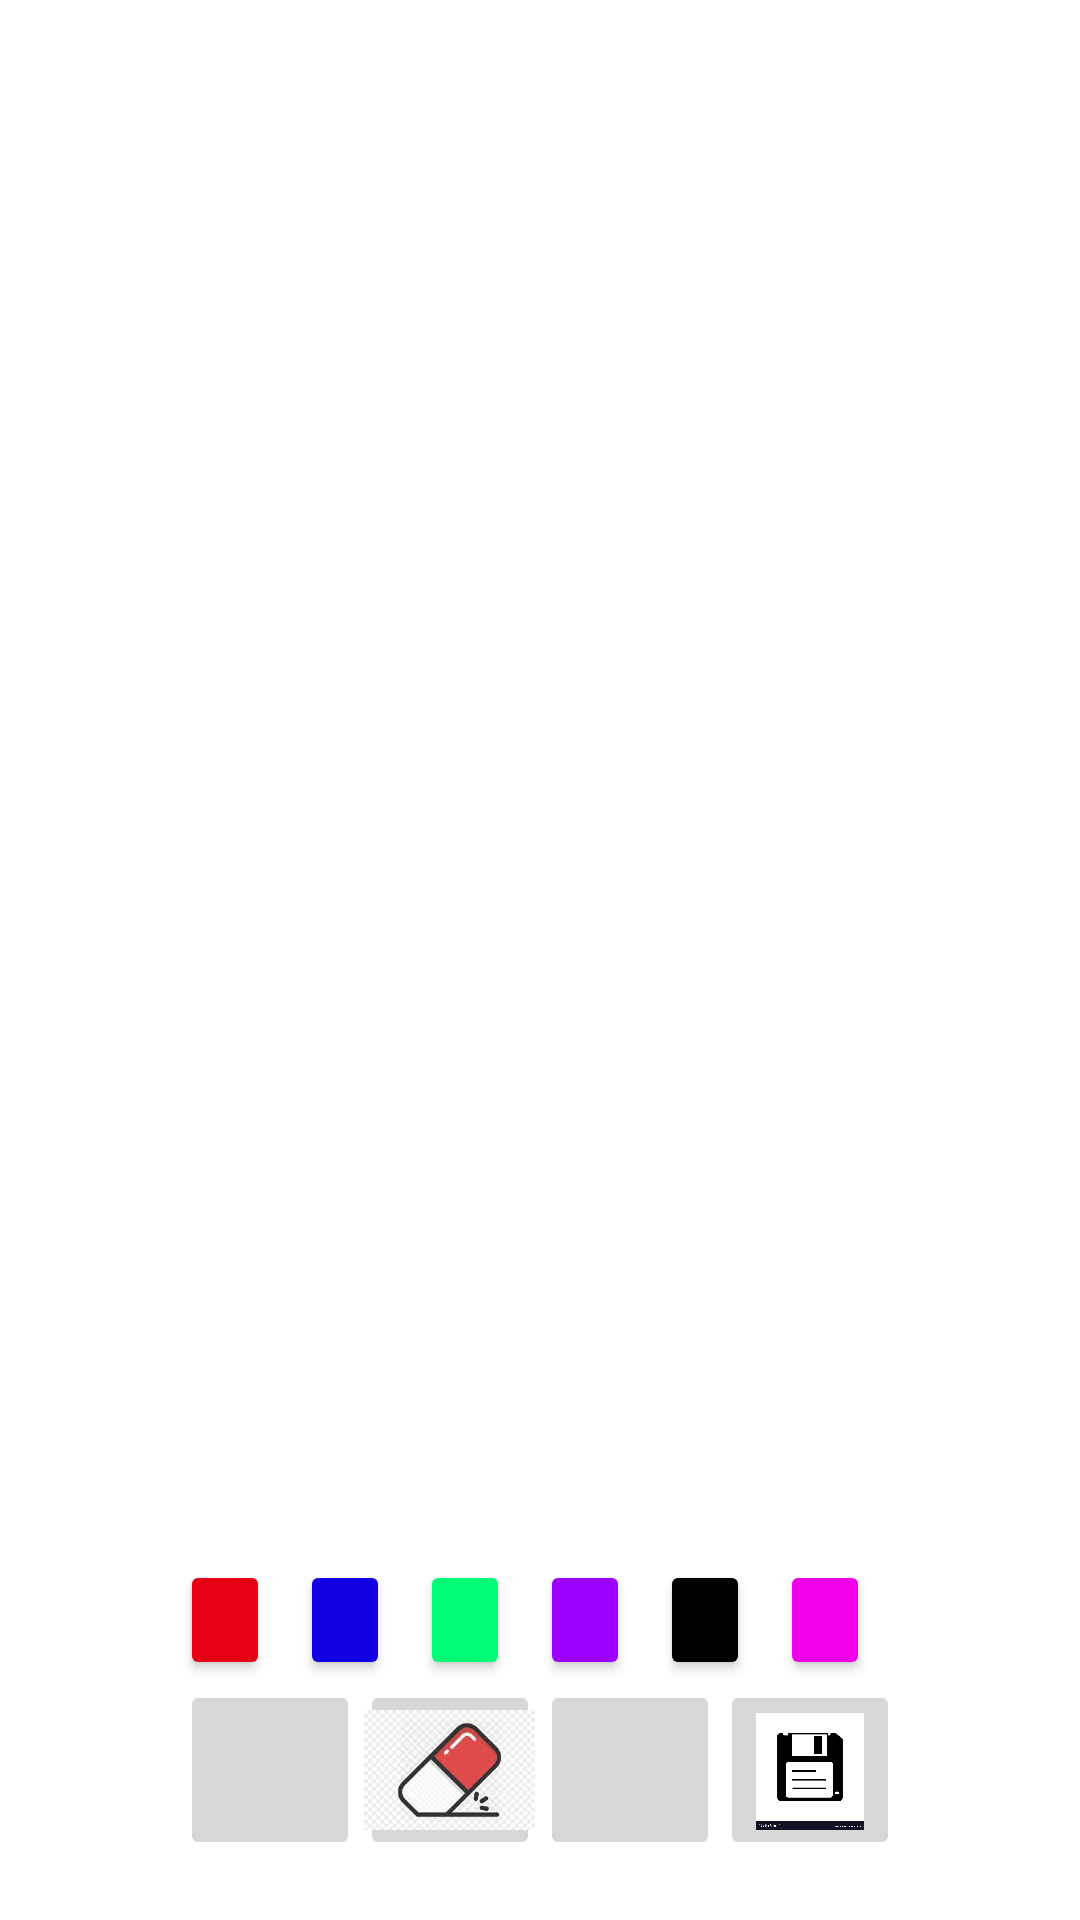

Named icons in this screenshot (1080px×1920px) and their centers, (x=x, y=y):
eraser: (x=447, y=1770)
floppy: (x=810, y=1770)
